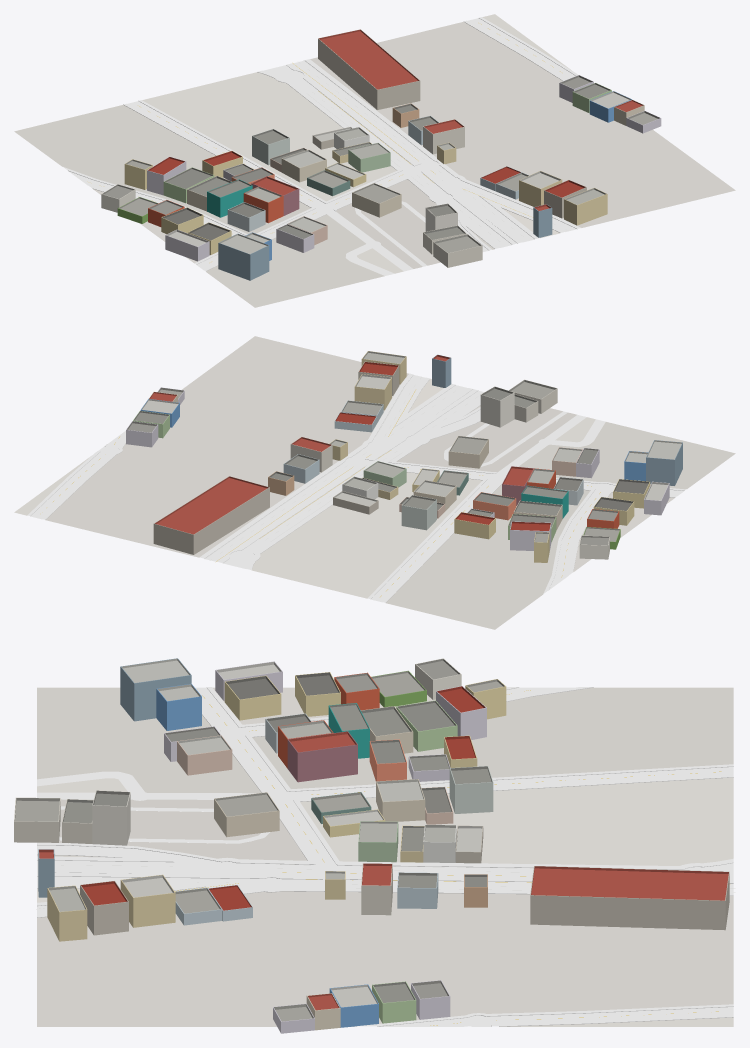
The picture shows the model from 3 angles, top to bottom: view 1: azimuth 30°, elevation 25°; view 2: azimuth 150°, elevation 25°; view 3: azimuth 270°, elevation 25°; orthographic projection. The views are drawn at different scales.
Parts seen in each view (by area): view 1: ground, walls, roofs, asphalt, sidewalk, concrete; view 2: ground, walls, roofs, asphalt, sidewalk, concrete, markings; view 3: ground, walls, roofs, asphalt, sidewalk, concrete.
Part boxes in pixels (<box>): ground: <box>14,14,735,307</box>; walls: <box>101,39,661,280</box>; roofs: <box>101,29,660,254</box>; asphalt: <box>68,18,576,275</box>; sidewalk: <box>63,17,580,271</box>; concrete: <box>355,201,427,266</box>; ground: <box>14,336,735,629</box>; walls: <box>126,356,682,562</box>; roofs: <box>126,351,682,545</box>; asphalt: <box>30,375,683,602</box>; sidewalk: <box>27,373,686,602</box>; concrete: <box>444,411,567,466</box>; markings: <box>53,377,600,596</box>; ground: <box>37,687,733,1026</box>; walls: <box>14,664,729,1033</box>; roofs: <box>14,658,729,1021</box>; asphalt: <box>37,687,733,1026</box>; sidewalk: <box>37,687,733,1026</box>; concrete: <box>59,806,269,843</box>.
Size of what is drawn, in the model's own units: 262 by 13.37 by 225.
